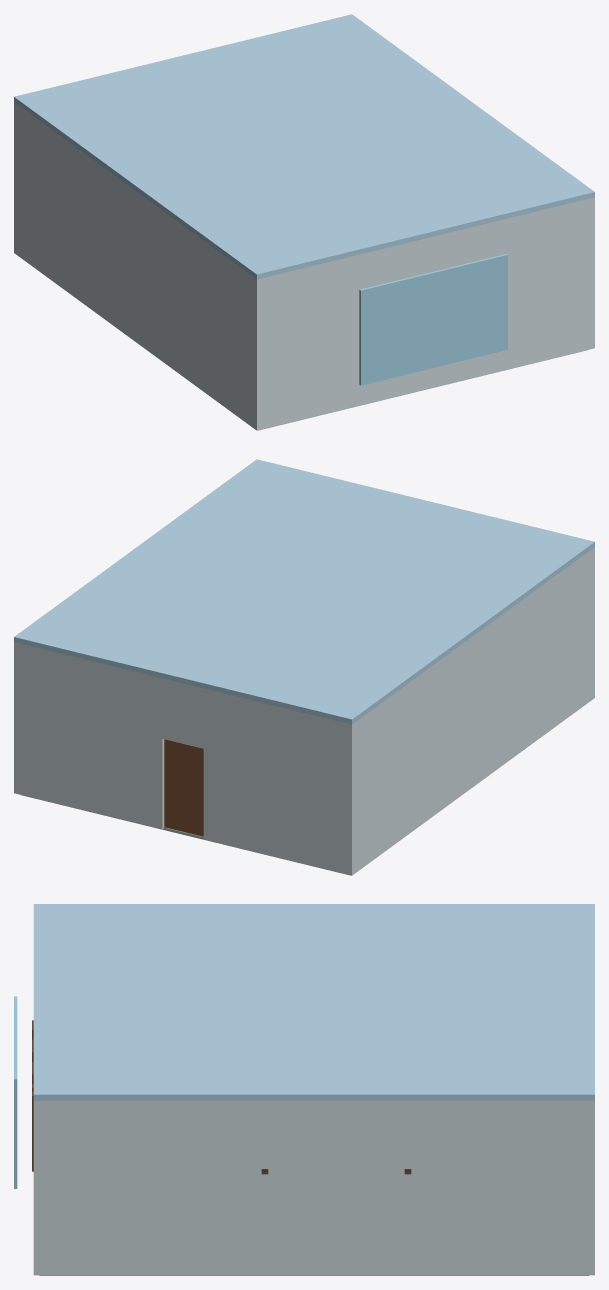
File: room_bath_f1.glb
The picture shows the model from 3 angles, top to bottom: view 1: azimuth 30°, elevation 25°; view 2: azimuth 150°, elevation 25°; view 3: azimuth 270°, elevation 25°; orthographic projection. The views are drawn at different scales.
Parts seen in each view (by area): view 1: CEILING, WALLS, VIEW_window; view 2: WALLS, CEILING, DOOR_corridor; view 3: CEILING, WALLS, VIEW_window, FLOOR_visible.
Boxes of the visible parts, x1,y1,x2,y2 form: CEILING: [14, 14, 594, 279]; WALLS: [14, 102, 594, 430]; VIEW_window: [359, 254, 507, 385]; WALLS: [14, 547, 594, 875]; CEILING: [14, 459, 594, 724]; DOOR_corridor: [165, 739, 203, 836]; CEILING: [33, 904, 594, 1100]; WALLS: [33, 1100, 594, 1275]; VIEW_window: [14, 996, 17, 1188]; FLOOR_visible: [39, 1275, 589, 1275].
Bounding box in the file's own units: 8.21 × 3.68 × 10.56.
